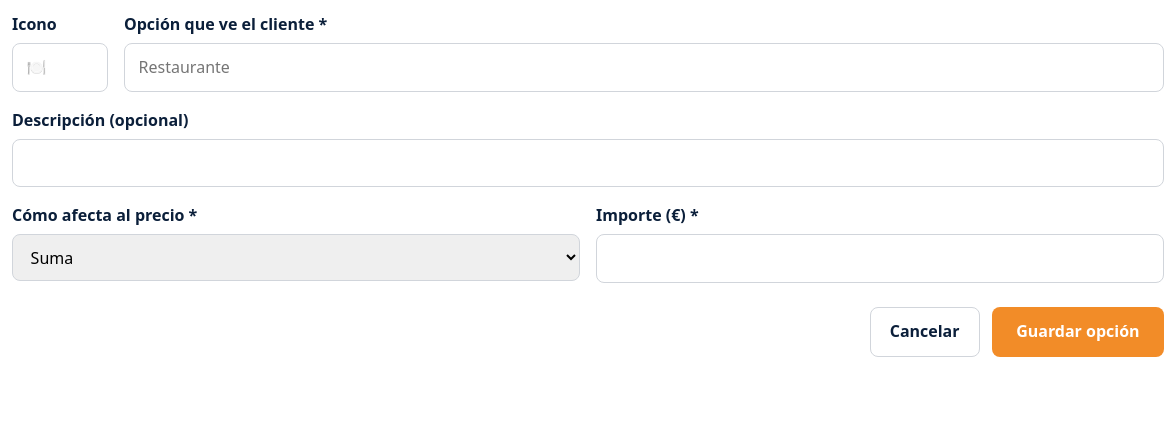
Scenario: RateOptionForm (BGSI-234) › requires the label and a valid amount
The image size is (1176, 430).
Select "Multiplica" in the dropdown with id "option-type". click: (296, 258)
box: [12, 234, 580, 281]
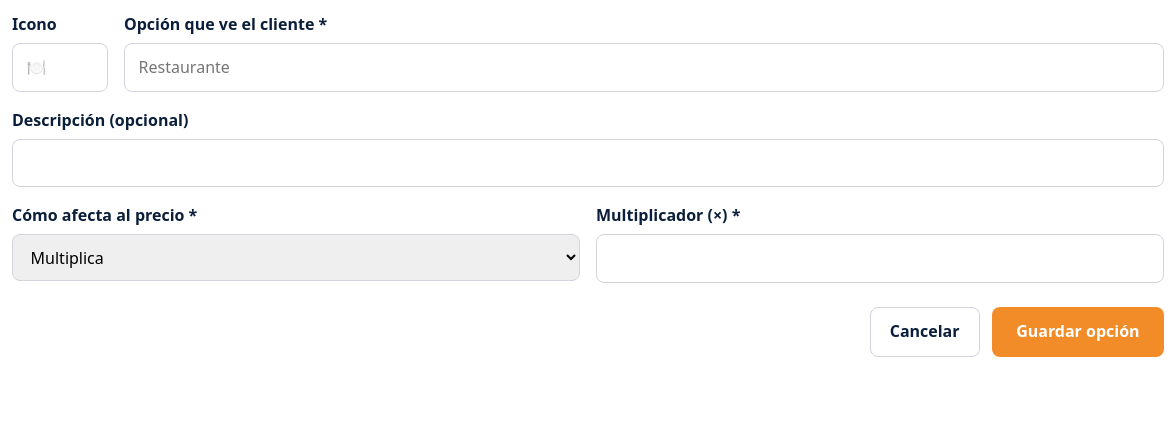
Type "0" into the number field with id "option-amount". click: (880, 258)
box: [596, 234, 1164, 283]
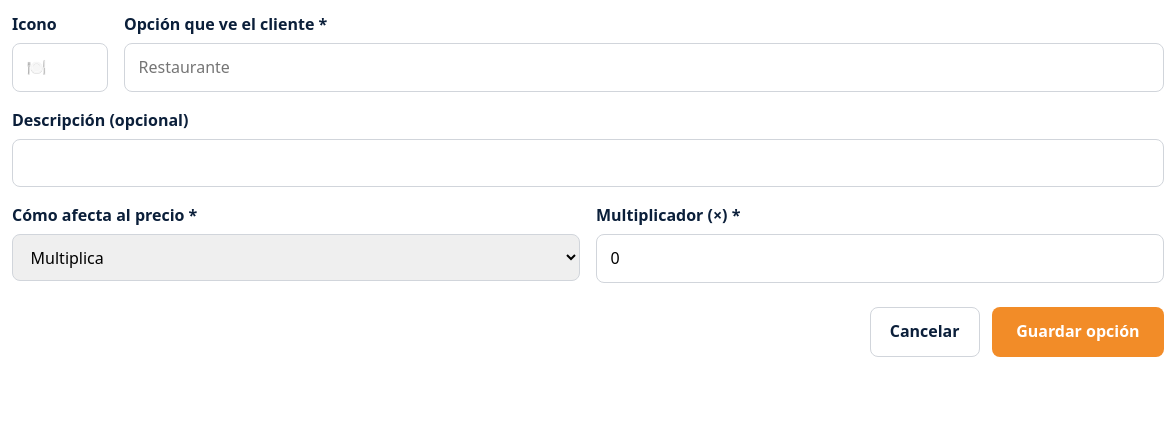
Submit the form
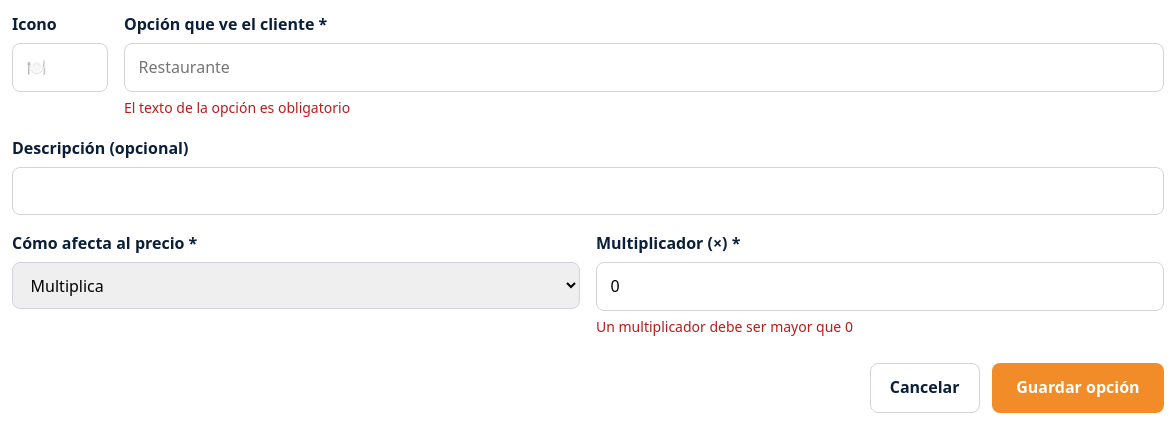
Now the form shows "El texto de la opción es obligatorio", box [124, 98, 350, 117]
Now the form shows "Un multiplicador debe ser mayor que 0", box [596, 317, 853, 336]
